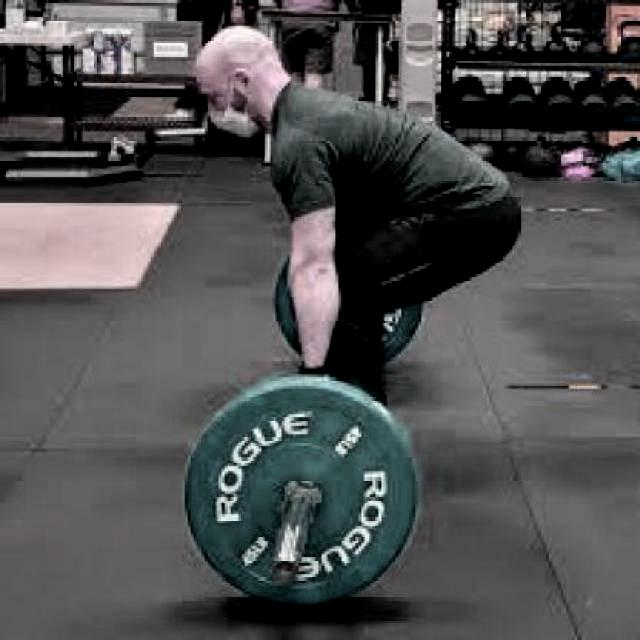barbell: (180, 370, 430, 629)
